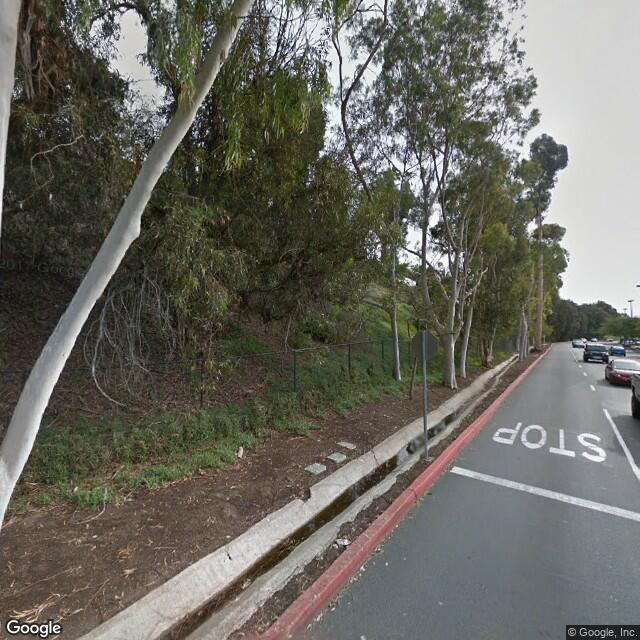litter: (232, 443, 250, 462), (337, 535, 353, 547), (370, 542, 384, 555), (242, 577, 254, 590), (357, 564, 369, 576), (316, 610, 327, 623), (424, 490, 435, 496)
